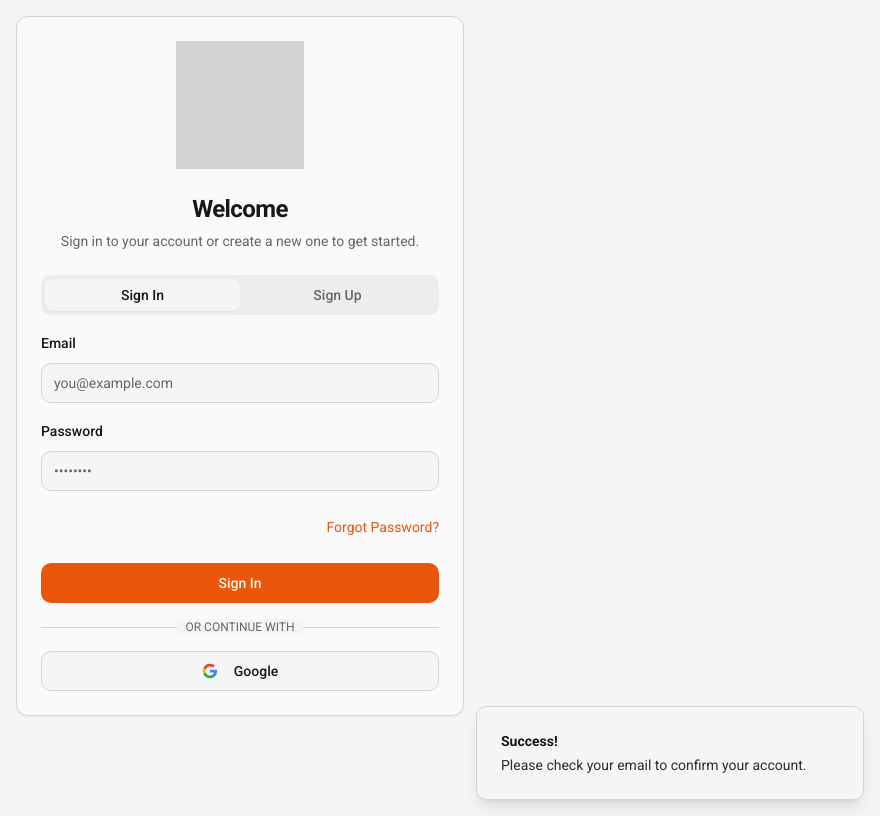
Test case: User Journey Integration › Phase 1: Registration › shows validation error for short password
Click the tab "Sign Up" at [338, 295], box [240, 279, 435, 311]
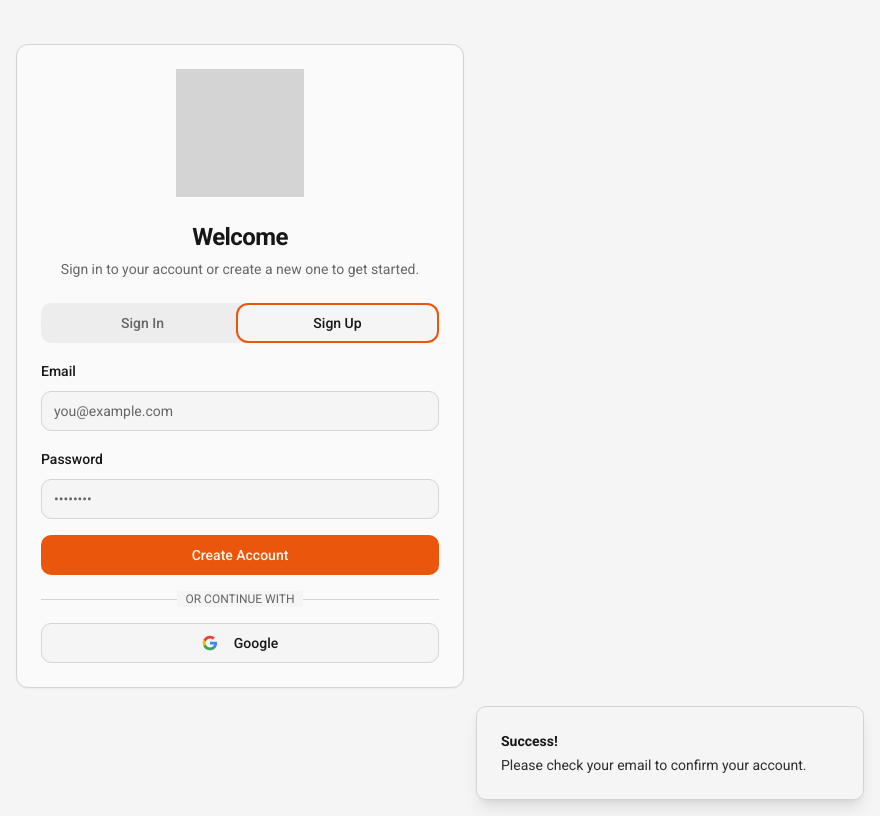
Type "test@test.com" into the field with id "signup-email" at [240, 411], box [41, 391, 439, 431]
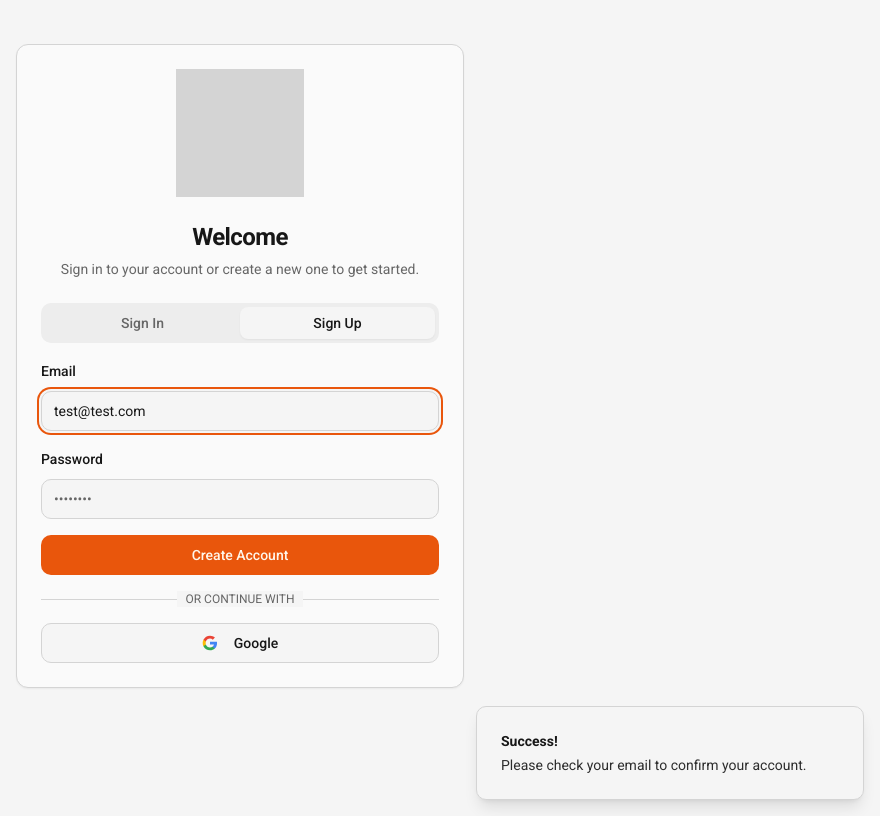
Type "123" into the password field with id "signup-password" at [240, 499], box [41, 479, 439, 519]
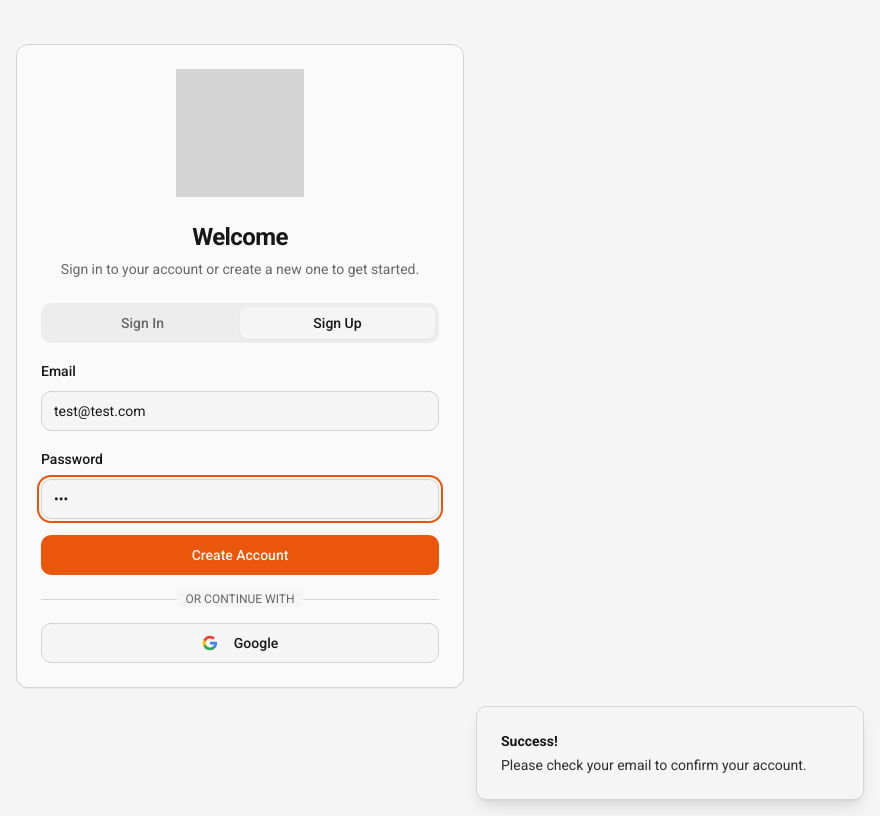
Click the button "Create Account" at [240, 555], box [41, 535, 439, 575]
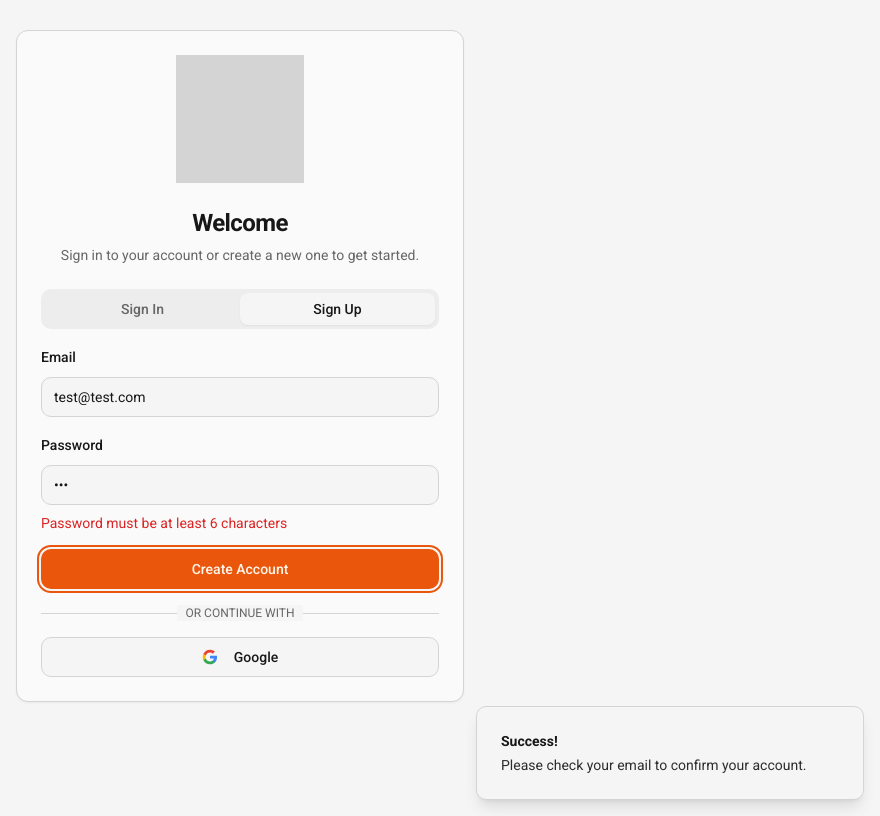
Expected: the text "Password must be at least 6 characters" is shown, [41, 515, 287, 531]
